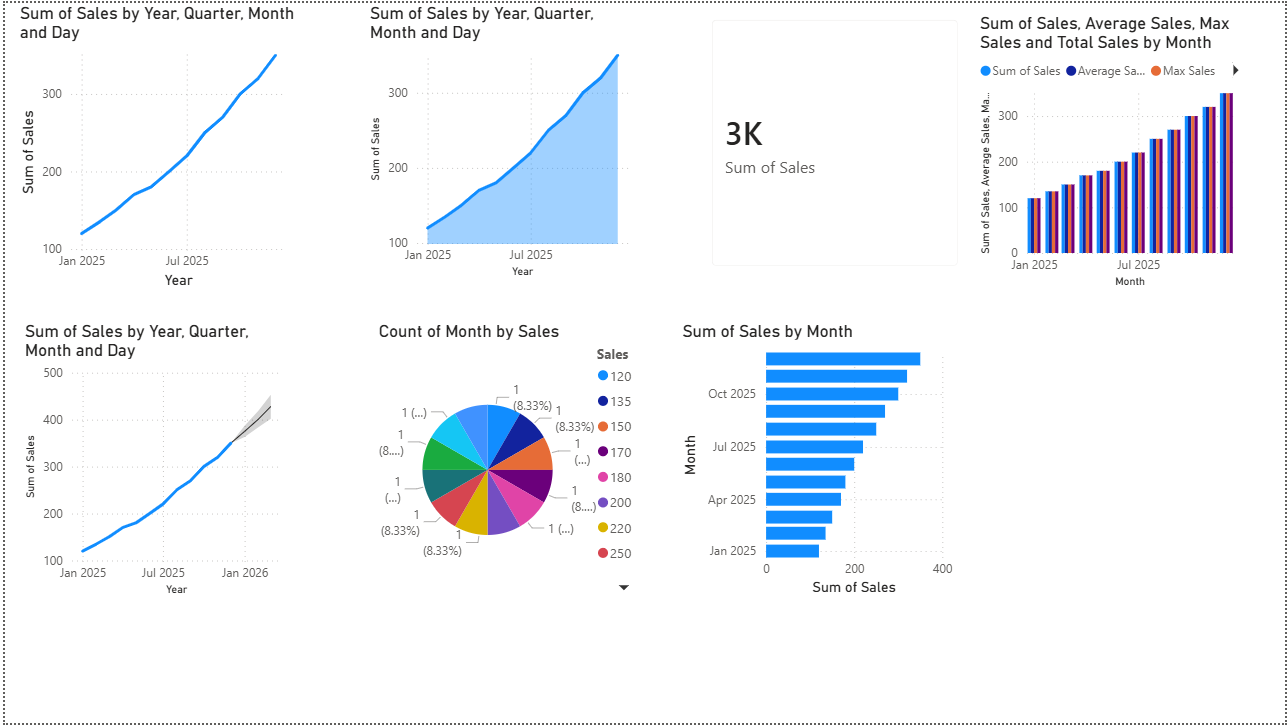

The page's visual inventory and layout, read from the dashboard file:
{"tool":"powerbi","page":{"name":"Page 1","canvas":[1280,720],"ordinal":0},"visuals":[{"type":"lineChart","fields":{"Category":["Table1.Month.Variation.Date Hierarchy.Year","Table1.Month.Variation.Date Hierarchy.Quarter","Table1.Month.Variation.Date Hierarchy.Month","Table1.Month.Variation.Date Hierarchy.Day"],"Y":["Sum(Table1.Sales)"]},"box":[10,0,287.8,290],"z":0},{"type":"cardVisual","fields":{"Data":["Sum(Table1.Sales)"]},"box":[690,0,280,280],"z":1},{"type":"lineChart","fields":{"Y":["Sum(Table1.Sales)"],"Category":["Table1.Month.Variation.Date Hierarchy.Year","Table1.Month.Variation.Date Hierarchy.Quarter","Table1.Month.Variation.Date Hierarchy.Month","Table1.Month.Variation.Date Hierarchy.Day"]},"box":[14.4,317.8,280,280],"z":2},{"type":"pieChart","fields":{"Category":["Table1.Sales"],"Y":["CountNonNull(Table1.Month)"]},"box":[369,318,280,280],"z":3},{"type":"areaChart","fields":{"Y":["Sum(Table1.Sales)"],"Category":["Table1.Month.Variation.Date Hierarchy.Year","Table1.Month.Variation.Date Hierarchy.Quarter","Table1.Month.Variation.Date Hierarchy.Month","Table1.Month.Variation.Date Hierarchy.Day"]},"box":[360,0,280,280],"z":4},{"type":"barChart","fields":{"Y":["Sum(Table1.Sales)"],"Category":["Table1.Month"]},"box":[672.9,317.1,280,280],"z":5},{"type":"clusteredColumnChart","fields":{"Category":["Table1.Month"],"Y":["Sum(Table1.Sales)","Table1.Average Sales","Table1.Max Sales","Table1.Total Sales"]},"box":[970,10,280,280],"z":6}]}

Visuals, with their boxes in screenshot pixels (x1, y1, x2, y2), scaled from the page's 1280x720 canvas onto the 1287x725 screenshot:
lineChart - Table1.Month.Variation.Date Hierarchy.Year x Table1.Month.Variation.Date Hierarchy.Quarter: bbox(10, 0, 299, 292)
cardVisual - Sum(Table1.Sales): bbox(694, 0, 975, 282)
lineChart - Sum(Table1.Sales) x Table1.Month.Variation.Date Hierarchy.Year: bbox(14, 320, 296, 602)
pieChart - Table1.Sales x CountNonNull(Table1.Month): bbox(371, 320, 653, 602)
areaChart - Sum(Table1.Sales) x Table1.Month.Variation.Date Hierarchy.Year: bbox(362, 0, 644, 282)
barChart - Sum(Table1.Sales) x Table1.Month: bbox(677, 319, 958, 601)
clusteredColumnChart - Table1.Month x Sum(Table1.Sales): bbox(975, 10, 1257, 292)
